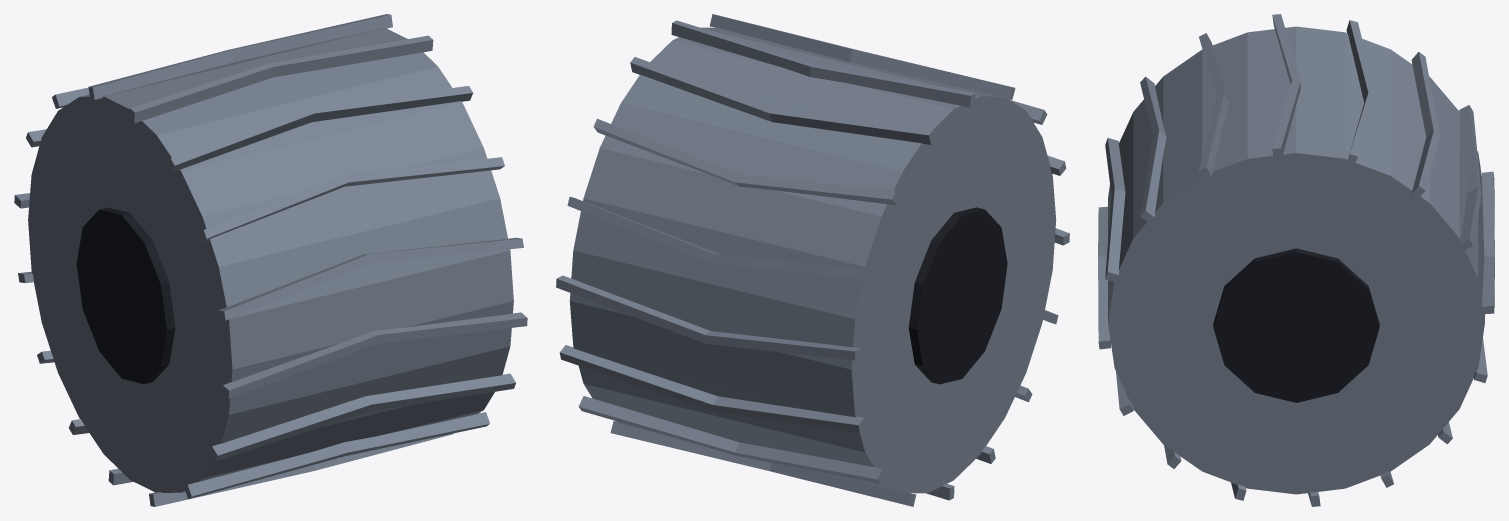
File: Wheel_Reinforced.glb
3 renders of one model, left to right at view 1: azimuth 30°, elevation 25°; view 2: azimuth 150°, elevation 25°; view 3: azimuth 270°, elevation 25°, orthographic. The views are drawn at different scales.
Visible parts, largest first — view 1: Wheel_Reinforced; view 2: Wheel_Reinforced; view 3: Wheel_Reinforced.
Boxes of the visible parts, x1,y1,x2,y2 form: Wheel_Reinforced: (14, 14, 527, 506); Wheel_Reinforced: (556, 14, 1069, 506); Wheel_Reinforced: (1098, 14, 1494, 506).
Bounding box in the file's own units: 0.42 × 0.525 × 0.525.
